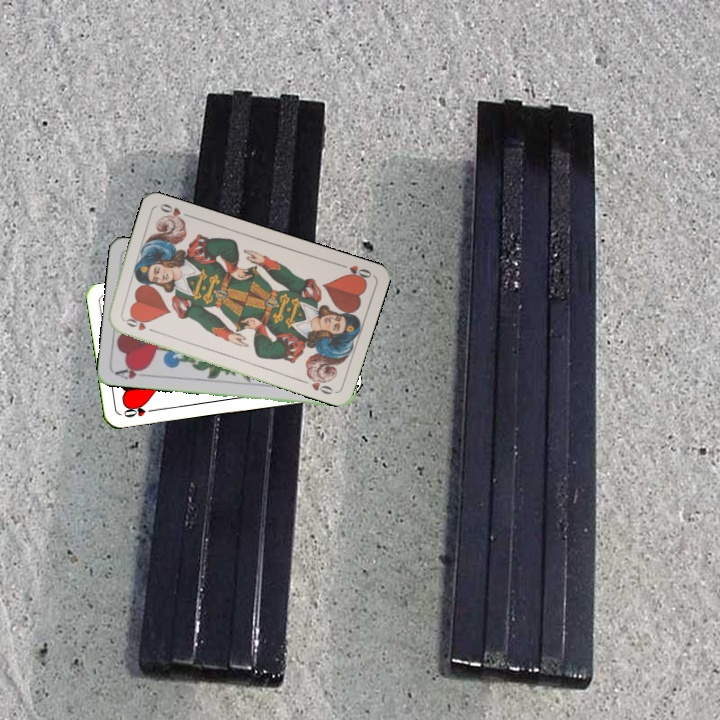HA: (112, 362, 152, 382)
HO: (335, 259, 374, 284), (119, 314, 158, 335), (119, 402, 159, 420)
